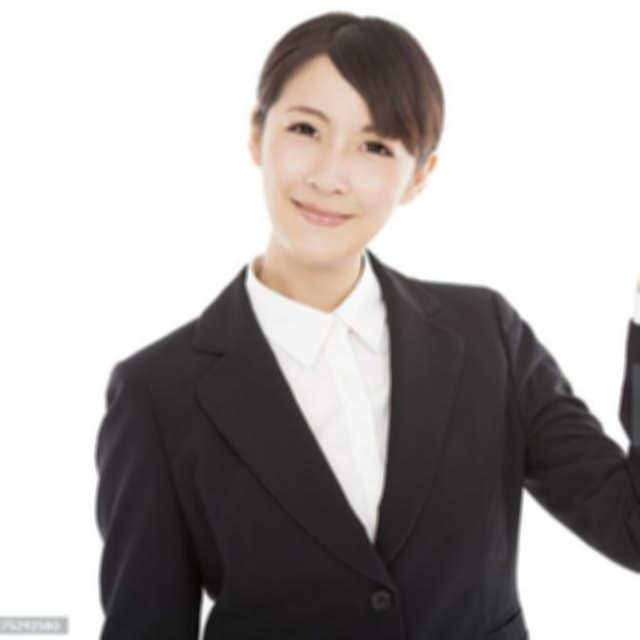Sin_Casco_Mascarrilla: (249, 12, 449, 265)
Sin_Chaleco: (136, 276, 532, 640)
